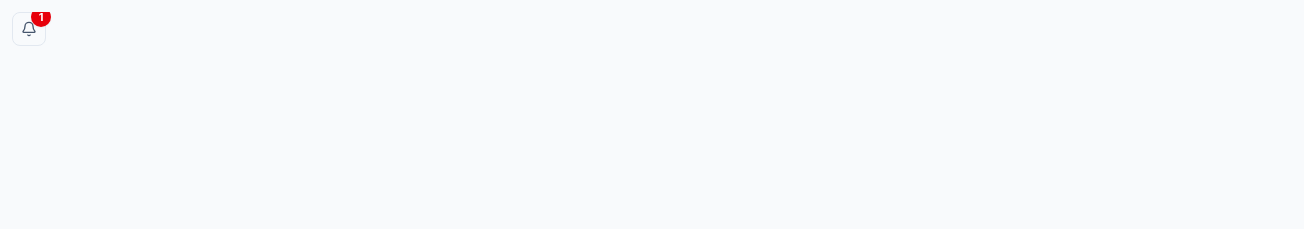
Test: подія notification збільшує лічильник, клік позначає сповіщення прочитаним
The image size is (1304, 229).
Click the button named "Сповіщення" at (29, 29), box [12,12,46,46]
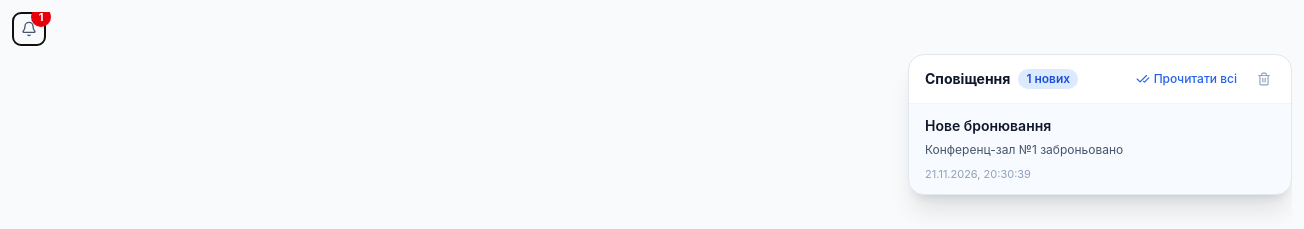
Click the text "Нове бронювання" at (988, 126), box [925,116,1051,136]
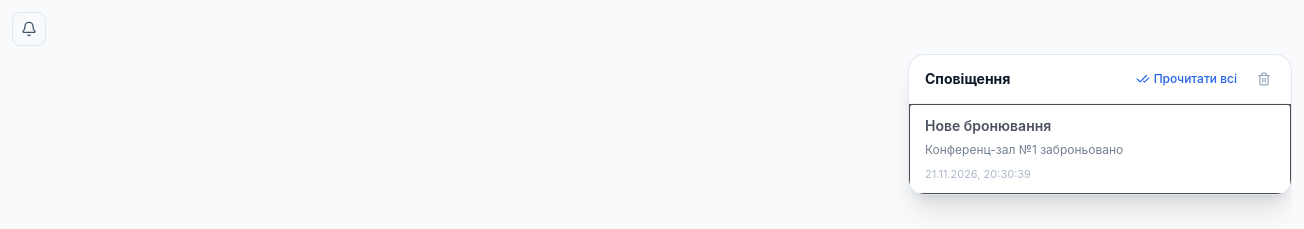
Check: the button named "непрочитаних 0" is shown, box [12,12,46,46]
